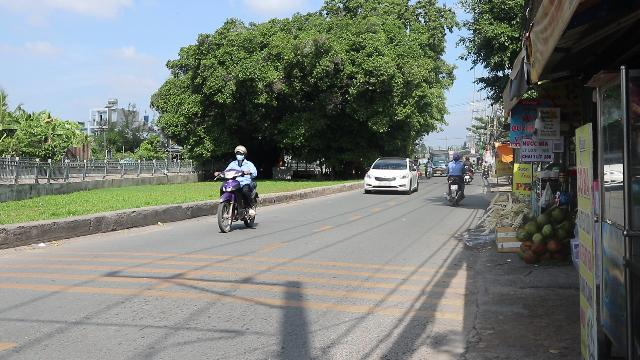helmet: (234, 146, 246, 160)
motorcyclist: (212, 144, 260, 232)
